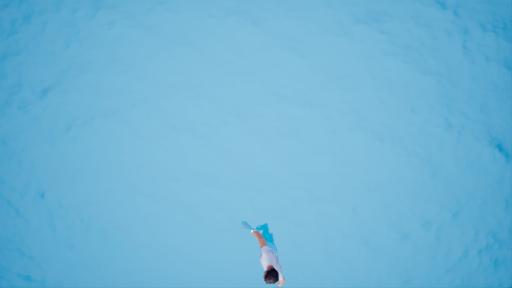person: (240, 211, 301, 288)
